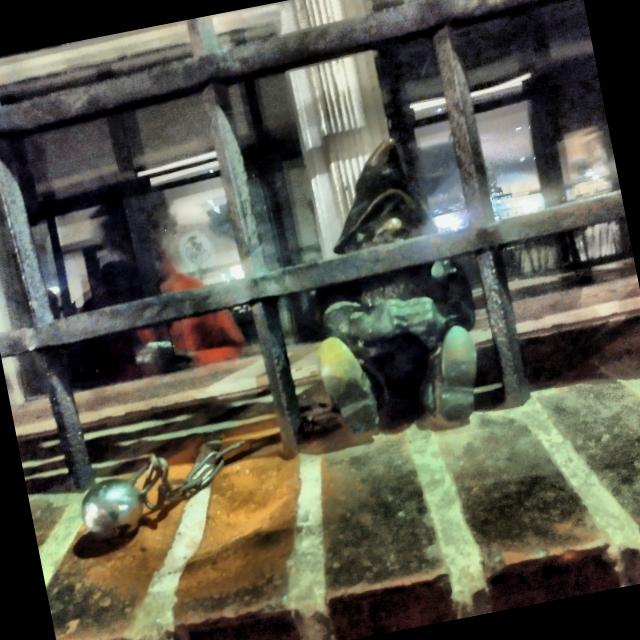Wiezien: (82, 142, 478, 539)
